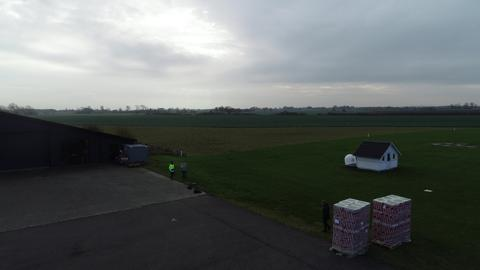RockwoolPallet: (373, 195, 411, 247)
